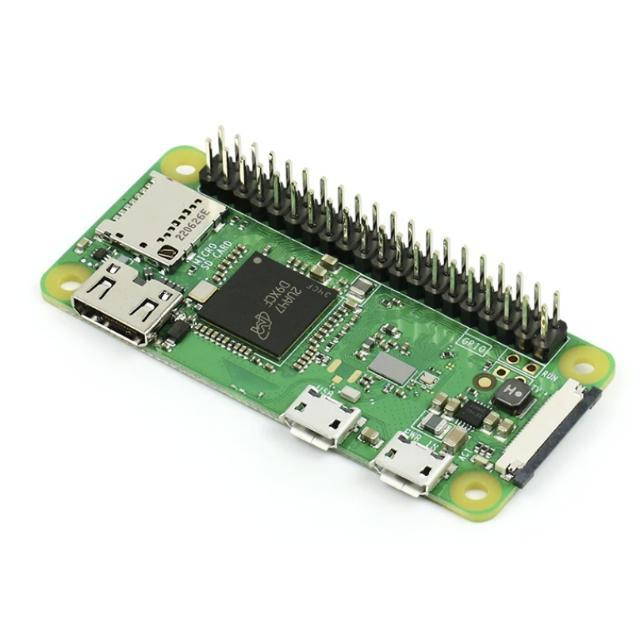Raspberry-Pi-Zero-WH: (42, 134, 614, 522)
